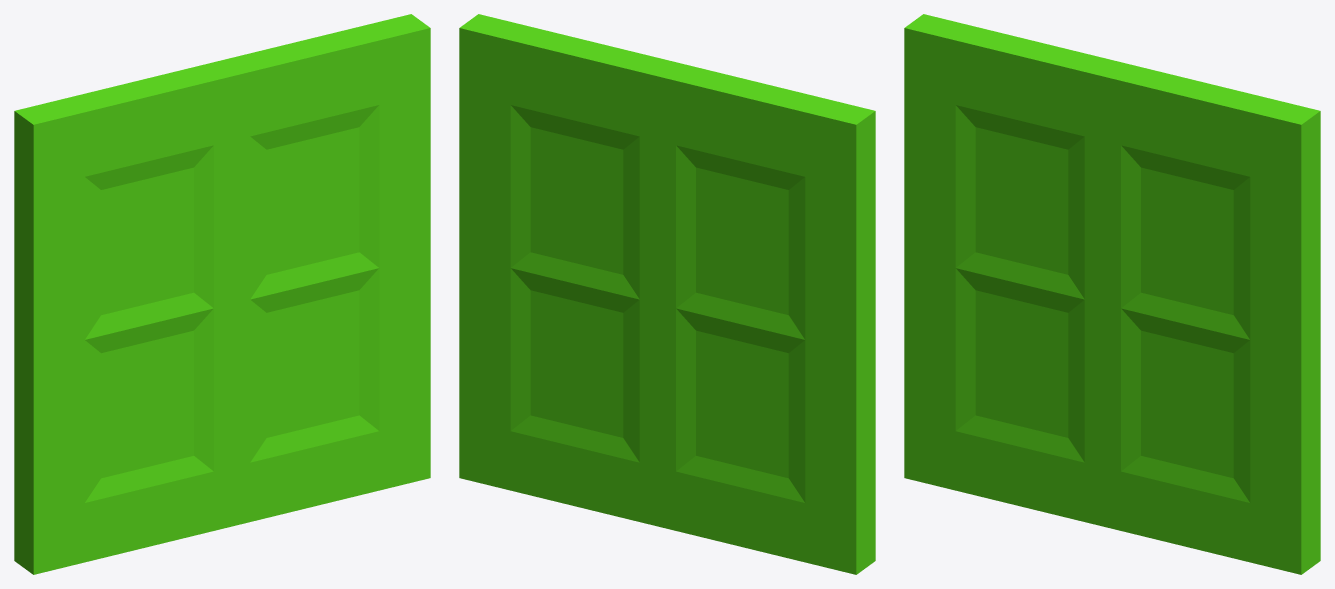
Rendered from SM_Door-Elevator_E.fbx.
The picture shows the model from 3 angles, left to right: view 1: azimuth 30°, elevation 25°; view 2: azimuth 150°, elevation 25°; view 3: azimuth 330°, elevation 25°; orthographic projection.
Parts seen in each view (by area): view 1: SM_Door-Elevator_E; view 2: SM_Door-Elevator_E; view 3: SM_Door-Elevator_E.
Boxes of the visible parts, left/top/right/bottom form: SM_Door-Elevator_E: left=14, top=14, right=430, bottom=574; SM_Door-Elevator_E: left=459, top=14, right=875, bottom=574; SM_Door-Elevator_E: left=904, top=14, right=1320, bottom=574.
Size of the model in its own units: 240 by 20 by 260.
